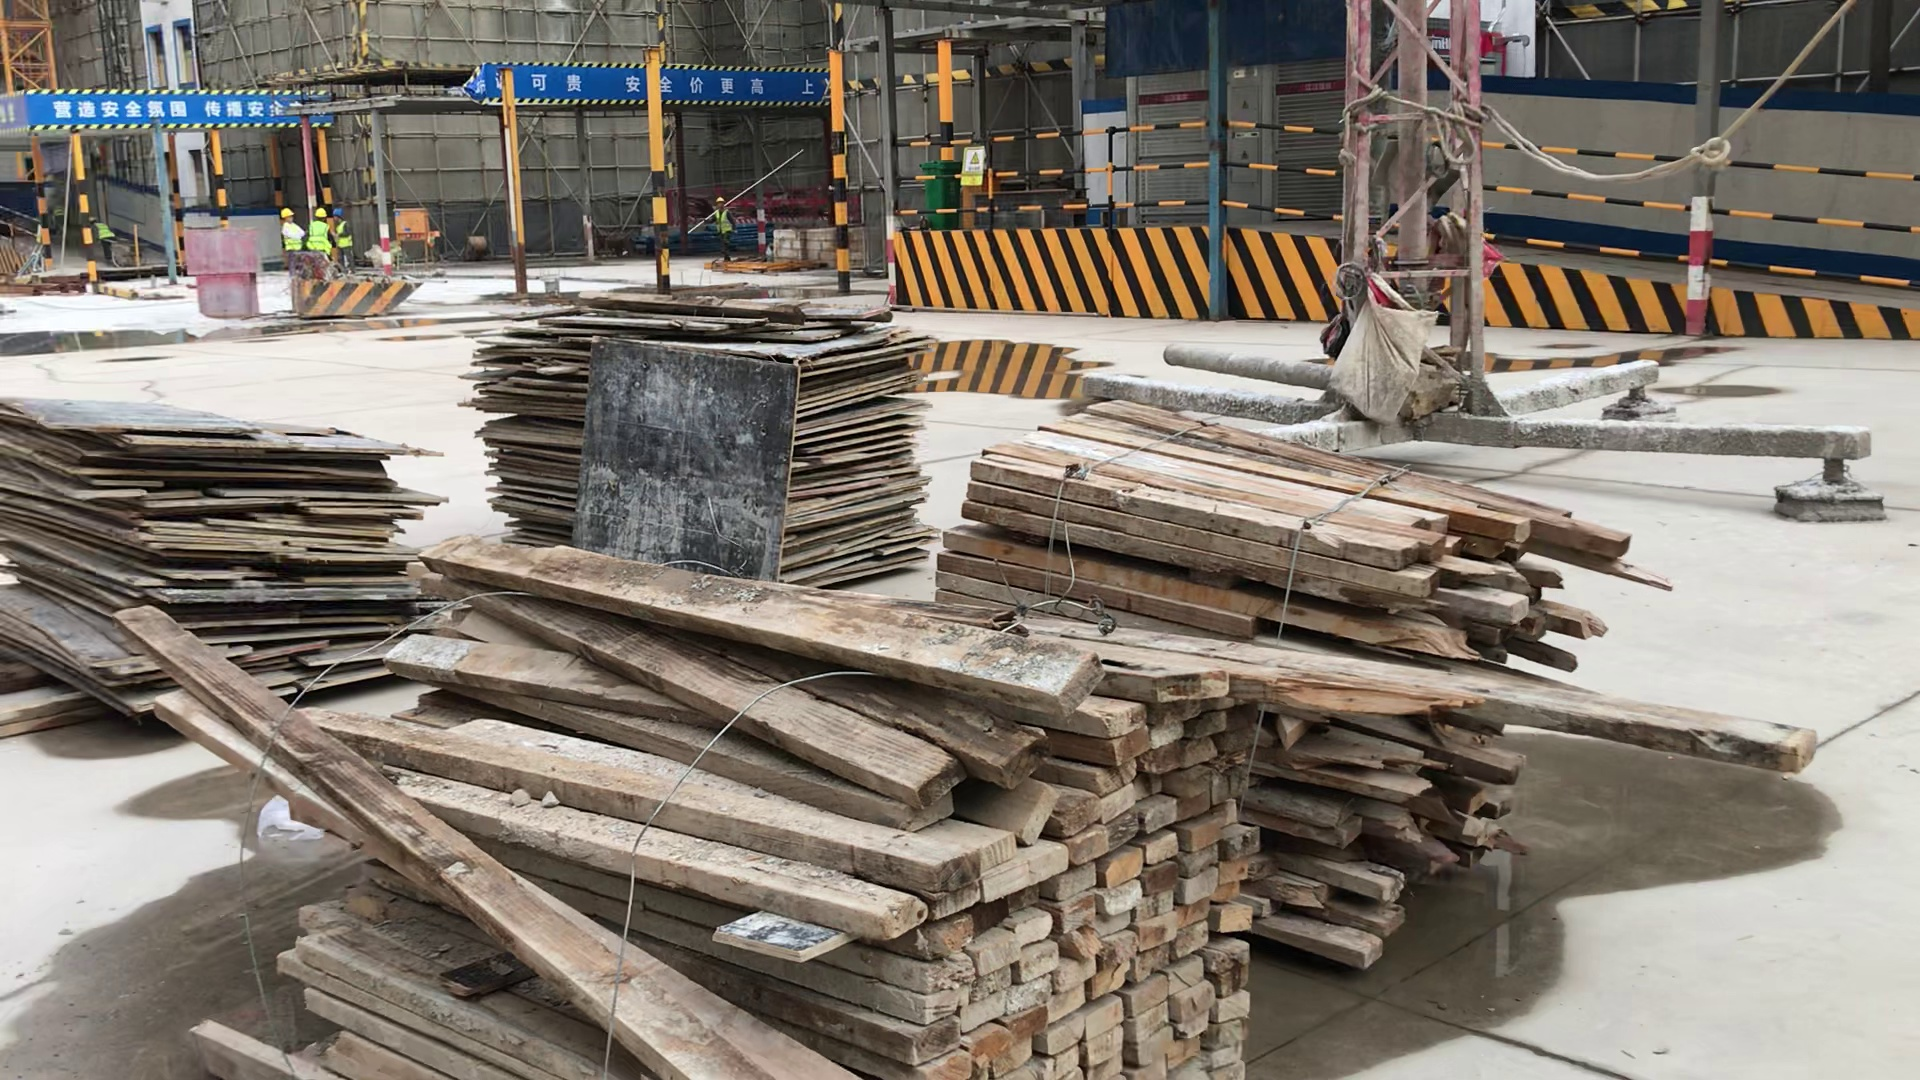board: (471, 292, 935, 584), (1, 396, 408, 707)
ebox: (394, 208, 424, 245)
person: (704, 197, 737, 262), (331, 208, 353, 272), (305, 207, 336, 252), (89, 216, 116, 259), (279, 208, 305, 250)
slogan: (471, 64, 835, 107), (36, 89, 285, 127)
vest: (307, 221, 331, 251), (715, 210, 732, 234), (336, 221, 351, 248)
wood: (204, 535, 1258, 1080), (933, 400, 1628, 970)
